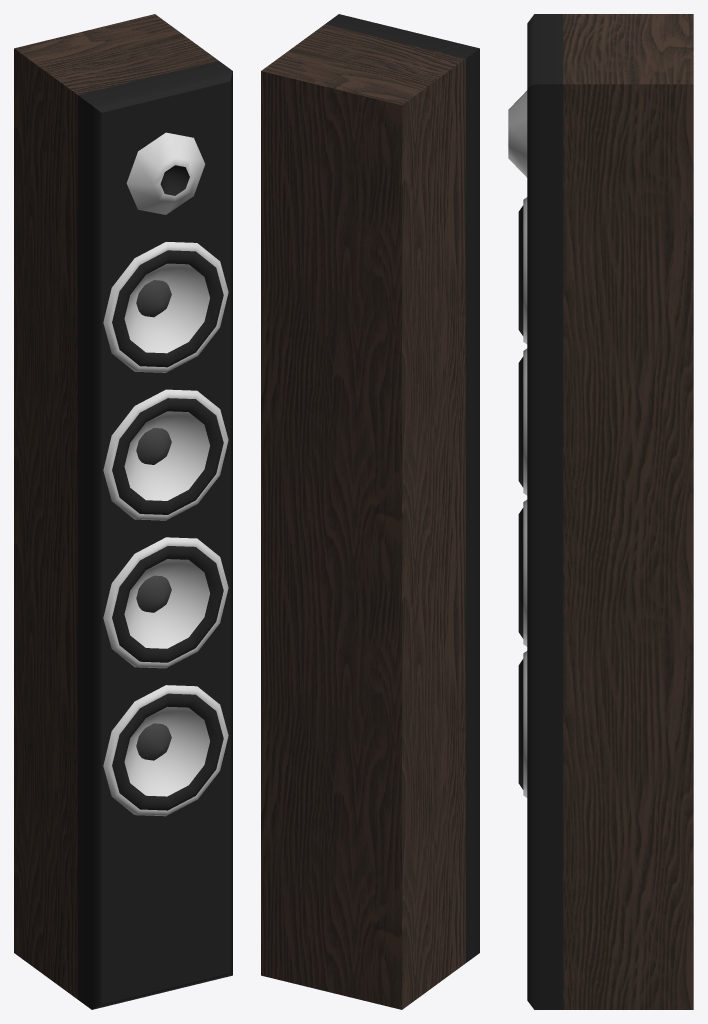
The model's file is entertainment_010.fbx.
The picture shows the model from 3 angles, left to right: view 1: azimuth 30°, elevation 25°; view 2: azimuth 150°, elevation 25°; view 3: azimuth 270°, elevation 25°; orthographic projection. The views are drawn at different scales.
Parts seen in each view (by area): view 1: entertainment_010; view 2: entertainment_010; view 3: entertainment_010.
Part boxes in pixels (x1,y1,x2,y2): entertainment_010: [14, 14, 232, 1009]; entertainment_010: [261, 14, 479, 1009]; entertainment_010: [508, 14, 693, 1009].
Bounding box in the file's own units: 28.48 × 31.72 × 175.
